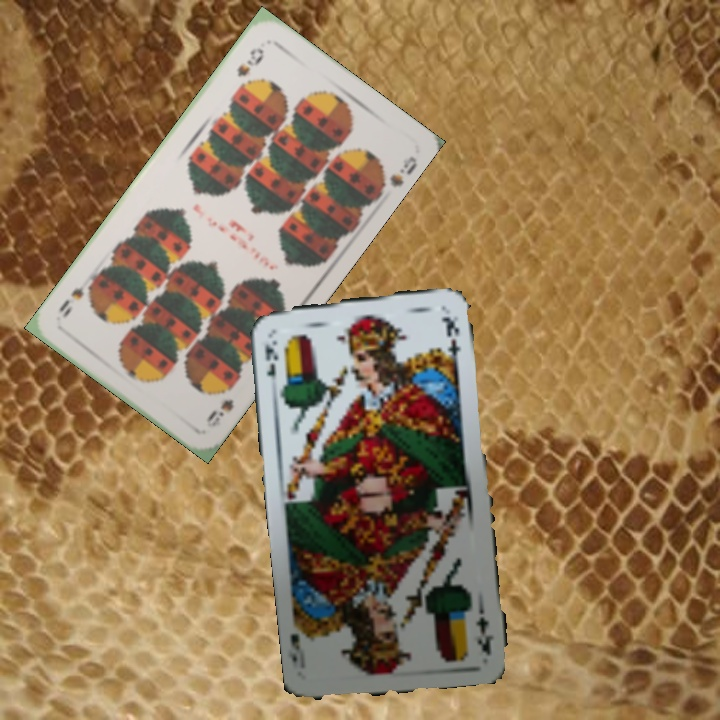EK: (472, 598, 496, 657), (260, 336, 281, 380)
S9: (202, 378, 239, 431), (233, 43, 267, 80)
